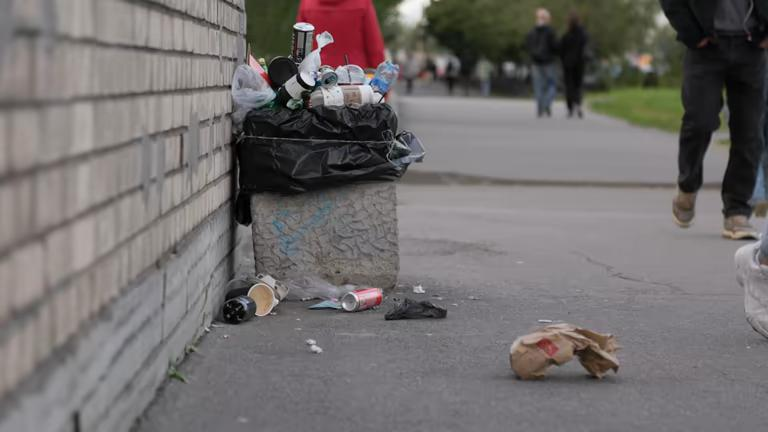trash: (229, 20, 418, 116), (493, 309, 616, 394), (215, 270, 281, 328), (380, 295, 448, 331), (325, 279, 389, 315)
trash_can_overflow: (207, 30, 443, 320)
